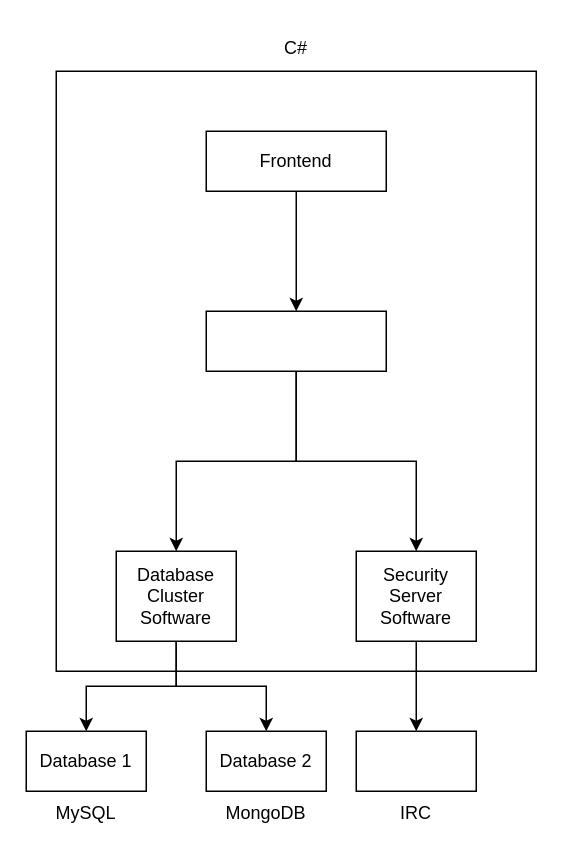
Image size: 563x861. Some labels were removed from this diagram. The shapes that lost their labels are listed below. From the top down, each one's box as (x1, y1, x2, y2) in pixels, then its label:
(205, 310, 386, 371): Backend (API Server)
(355, 730, 476, 791): Chat Server
